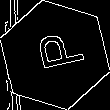P_W: (26, 31, 84, 79)
